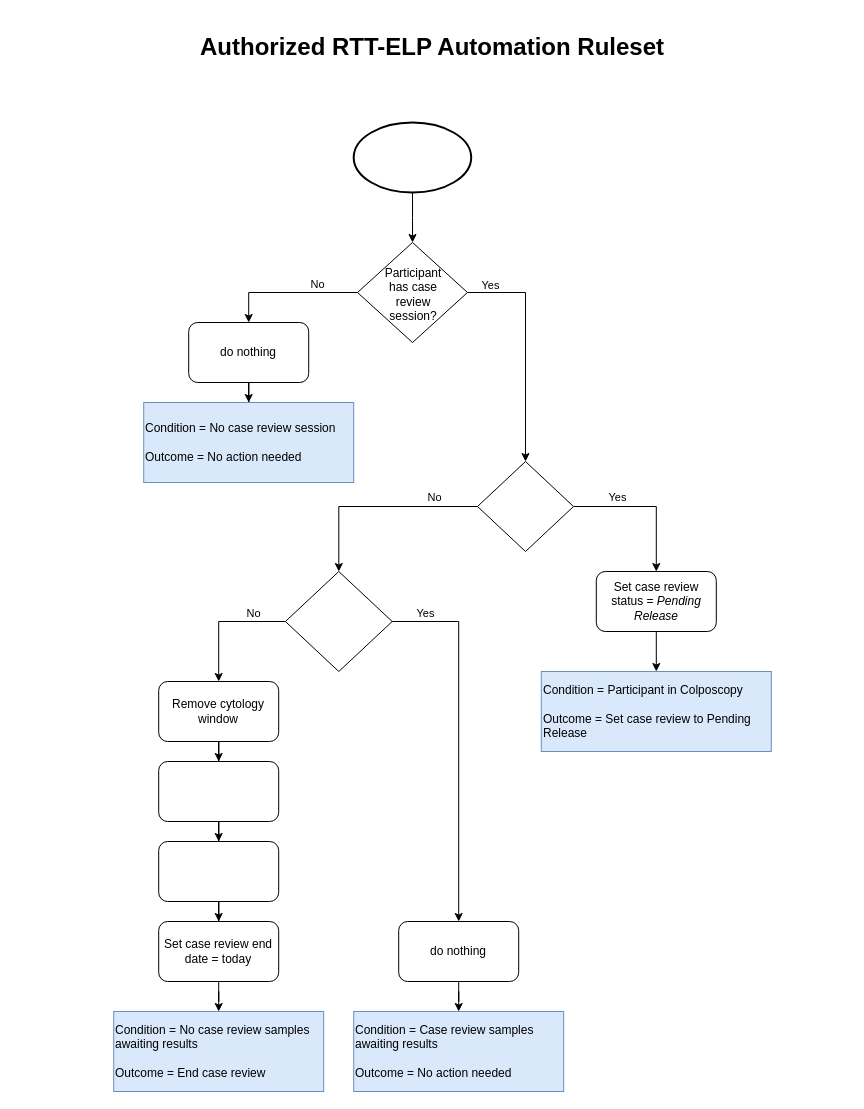
The diagram is 864 pixels wide and 1109 high, and some of its shapes have lost their labels. Each missing label, with the box of its shape:
Add decision of Exit Case Review: (158, 760, 279, 822)
Case review samples awaiting results?: (284, 570, 392, 672)
Participant in colpo?: (476, 460, 574, 552)
RTT-ELP is authorized: (352, 121, 472, 193)
Set case review status = Completed: (158, 840, 279, 902)
